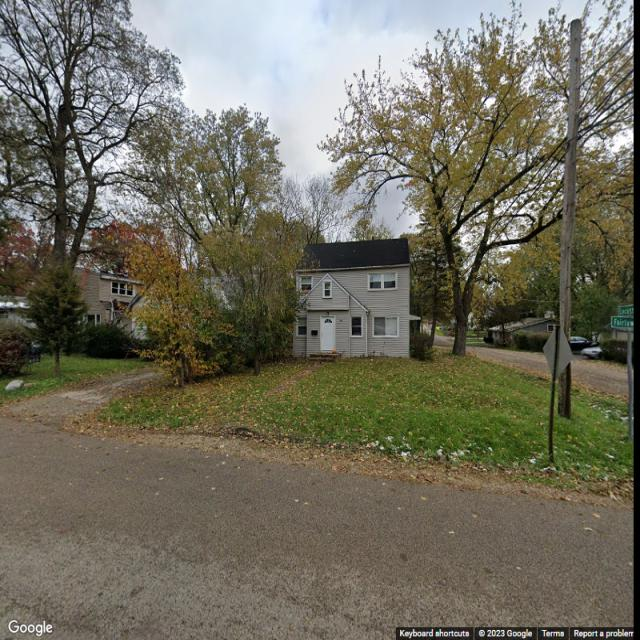House: (294, 238, 410, 359), (68, 266, 138, 333), (487, 320, 557, 349)
